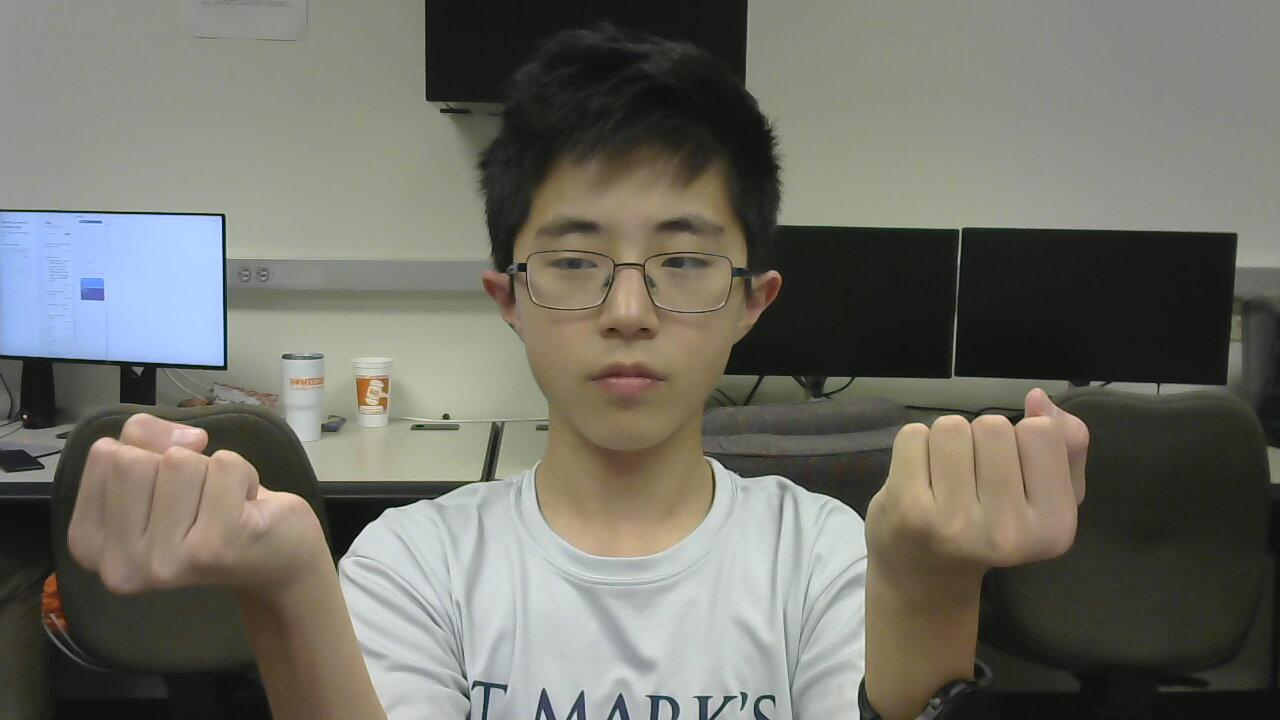fist: (58, 382, 327, 604), (858, 372, 1100, 571)
